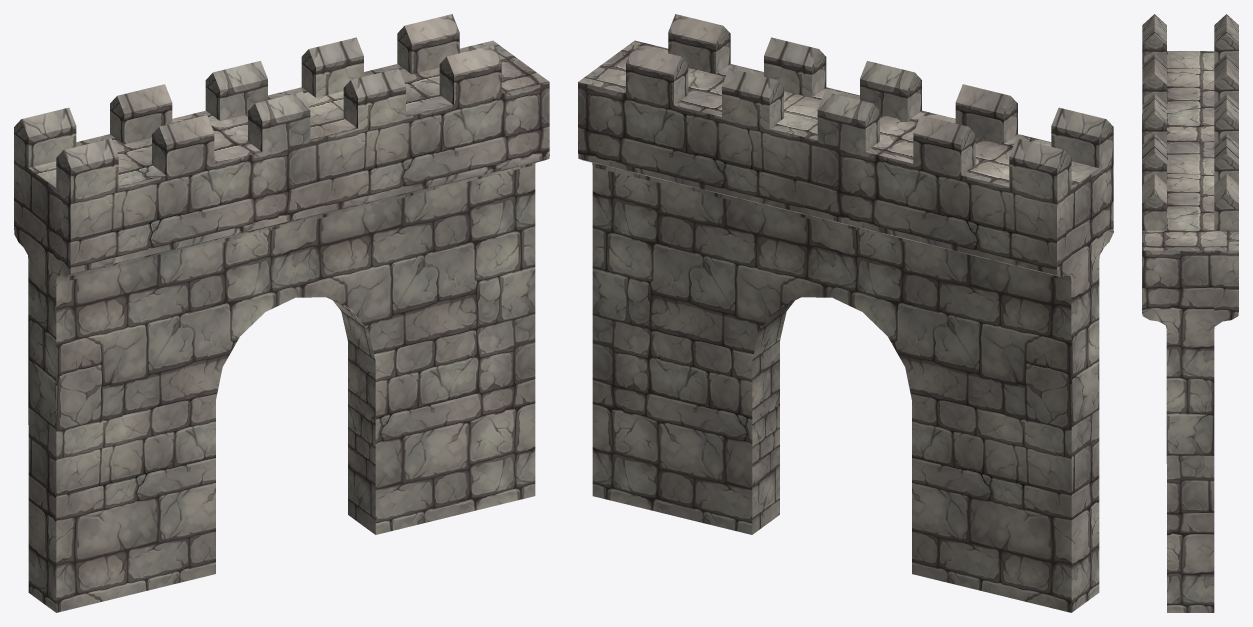
Rendered from MuraillePorte.fbx.
3 views of the same model, side by side, from view 1: azimuth 30°, elevation 25°; view 2: azimuth 150°, elevation 25°; view 3: azimuth 270°, elevation 25° (orthographic). The views are drawn at different scales.
Visible parts, largest first — view 1: Cube; view 2: Cube; view 3: Cube.
Part boxes in pixels (left/top/right/bottom): Cube: left=14, top=14, right=549, bottom=612; Cube: left=578, top=14, right=1113, bottom=612; Cube: left=1142, top=14, right=1238, bottom=612.
Bounding box in the file's own units: 1991 × 1859 × 409.
